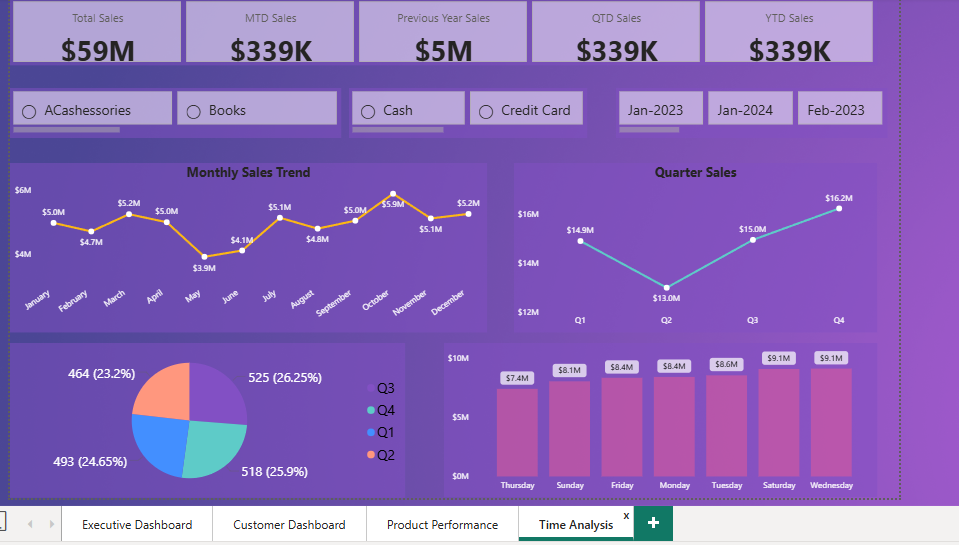

Layout of this report page (visuals, bound fields, positions):
{"tool":"powerbi","page":{"name":"Time Analysis","canvas":[1280,720],"ordinal":3},"visuals":[{"type":"cardVisual","fields":{"Data":["_All Measures.Total Sales","_All Measures.MTD Sales","_All Measures.Previous Year Sales","_All Measures.QTD Sales","_All Measures.YTD Sales"]},"box":[0,0,1249.2,97.4],"z":0},{"type":"lineChart","title":"Monthly Sales Trend","fields":{"Y":["_All Measures.Total Sales"],"Category":["Date.month_name"]},"box":[0,237.5,687,244.4],"z":4000},{"type":"lineChart","title":"Quarter Sales","fields":{"Category":["Date.quarter"],"Y":["_All Measures.Total Sales"]},"box":[726.3,237.5,522.9,244.4],"z":5000},{"type":"pieChart","title":"Sales By Product Category","fields":{"Y":["_All Measures.Total Orders"],"Category":["Date.quarter"]},"box":[0,496.8,568.8,223.2],"z":6000},{"type":"lineStackedColumnComboChart","title":"Sales By Product Category","fields":{"Y":["_All Measures.Total Sales"],"Category":["Date.day_name"]},"box":[625.5,497.3,623.8,222.2],"z":7000},{"type":"advancedSlicerVisual","fields":{"Values":["Sales.payment_mode"]},"box":[488.8,129.9,343.5,71.8],"z":7001},{"type":"advancedSlicerVisual","fields":{"Values":["Date.year month"]},"box":[873.3,129.9,391.3,71.8],"z":7002},{"type":"advancedSlicerVisual","fields":{"Values":["Sales.product_category"]},"box":[0,129.9,476.8,71.8],"z":7003}]}

Visuals, with their boxes on the page's 1280x720 design canvas (x1, y1, x2, y2). These are canvas units, not pixel positions in the 959x545 screenshot, which may show the page scaled, cropped or inside an application window:
cardVisual - _All Measures.Total Sales x _All Measures.MTD Sales: 0/0/1249/97
"Monthly Sales Trend" lineChart: 0/238/687/482
"Quarter Sales" lineChart: 726/238/1249/482
"Sales By Product Category" pieChart: 0/497/569/720
"Sales By Product Category" lineStackedColumnComboChart: 626/497/1249/720
advancedSlicerVisual - Sales.payment_mode: 489/130/832/202
advancedSlicerVisual - Date.year month: 873/130/1265/202
advancedSlicerVisual - Sales.product_category: 0/130/477/202
